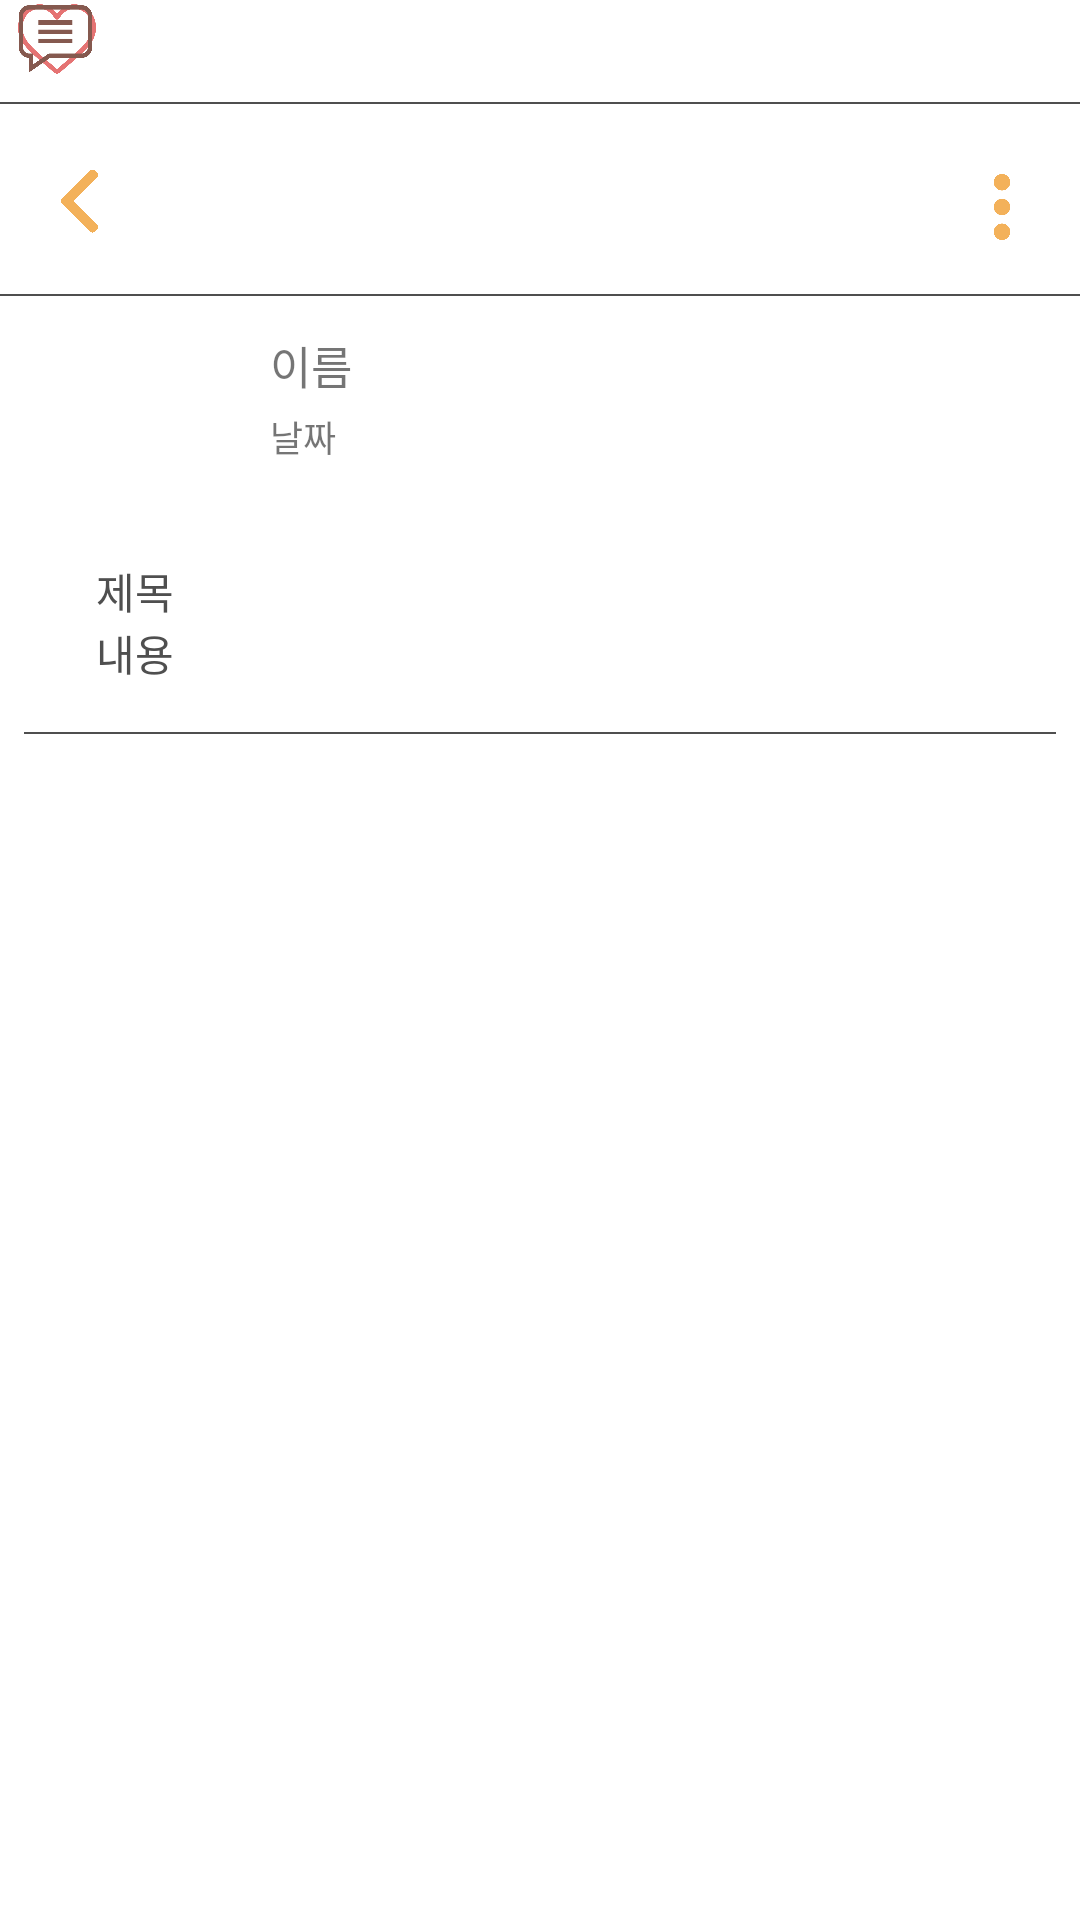

Named icons in this screenshot (1080 x 1920) and their centers, point (x, y):
leftbtn: point (79, 201)
more: point (1002, 207)
